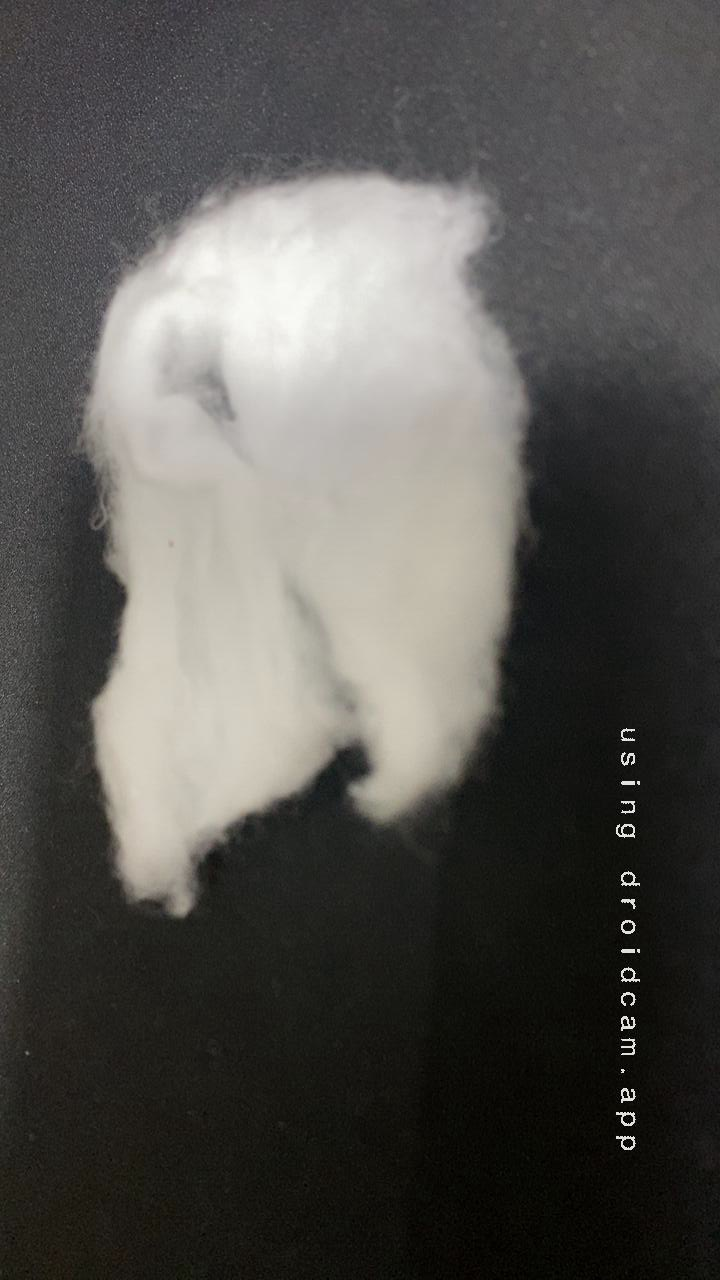cotton: (1, 136, 599, 908)
